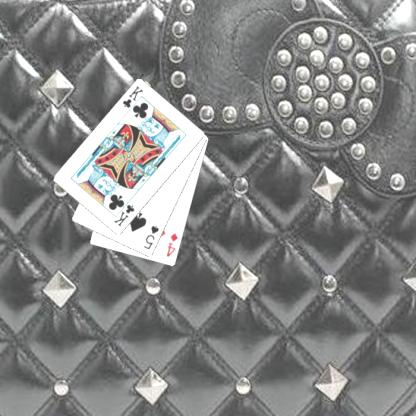4D: (164, 230, 179, 258)
5S: (141, 223, 160, 251)
KC: (119, 83, 144, 115), (111, 197, 136, 228)
